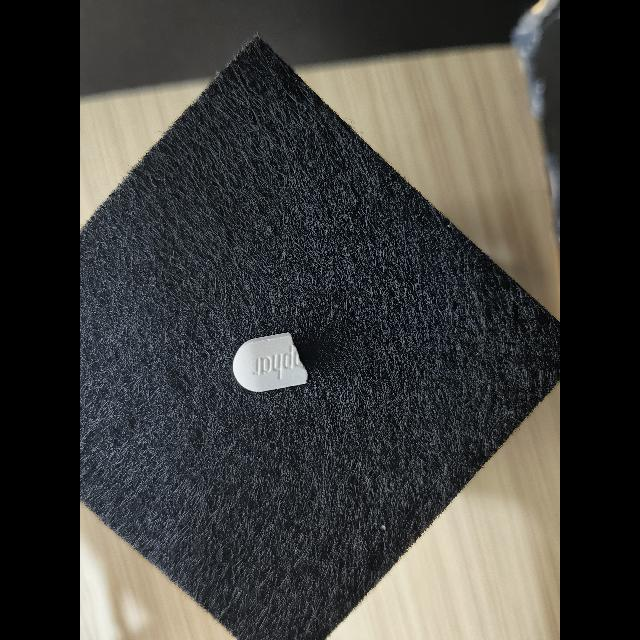Chipped Pill: (233, 332, 308, 392)
